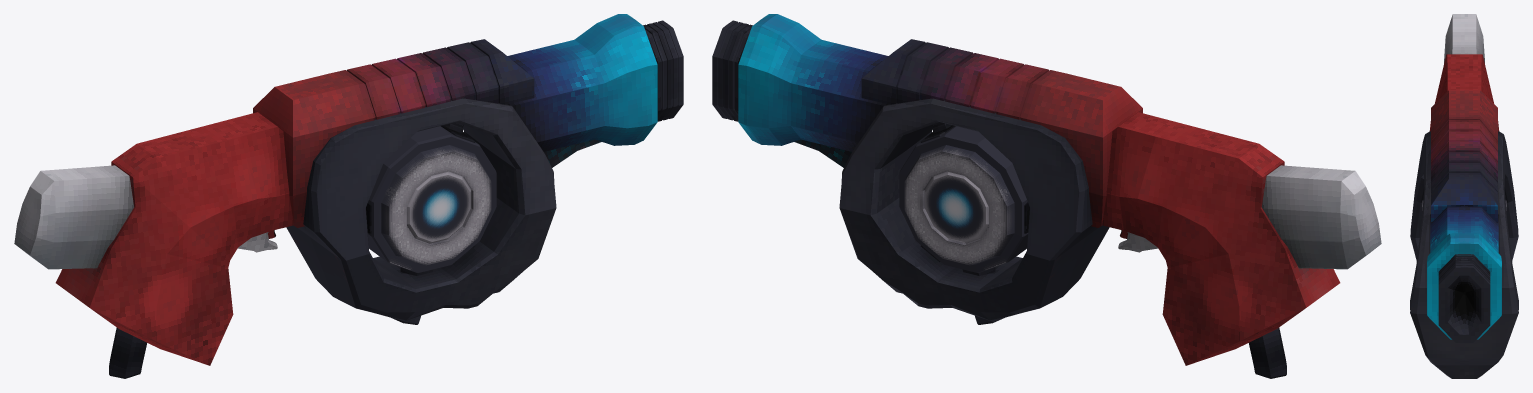
The model's file is splashblaster2.glb.
The picture shows the model from 3 angles, left to right: view 1: azimuth 30°, elevation 25°; view 2: azimuth 150°, elevation 25°; view 3: azimuth 270°, elevation 25°; orthographic projection. The views are drawn at different scales.
Parts seen in each view (by area): view 1: Splashblaster.Primary, Splashblaster.Can; view 2: Splashblaster.Primary, Splashblaster.Can; view 3: Splashblaster.Primary.
Boxes of the visible parts, x1=… form: Splashblaster.Primary: x1=14, y1=14, x2=683, y2=378; Splashblaster.Can: x1=367, y1=126, x2=496, y2=272; Splashblaster.Primary: x1=712, y1=14, x2=1381, y2=378; Splashblaster.Can: x1=899, y1=126, x2=1028, y2=272; Splashblaster.Primary: x1=1410, y1=14, x2=1518, y2=378.
Size of the model in its own units: 1.4 by 0.5388 by 0.2442.
Materials: 2 (2 with a texture image).
